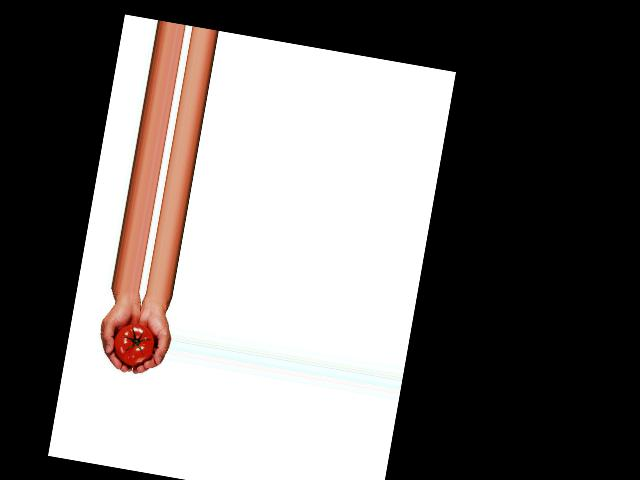tomato: (110, 321, 157, 368)
